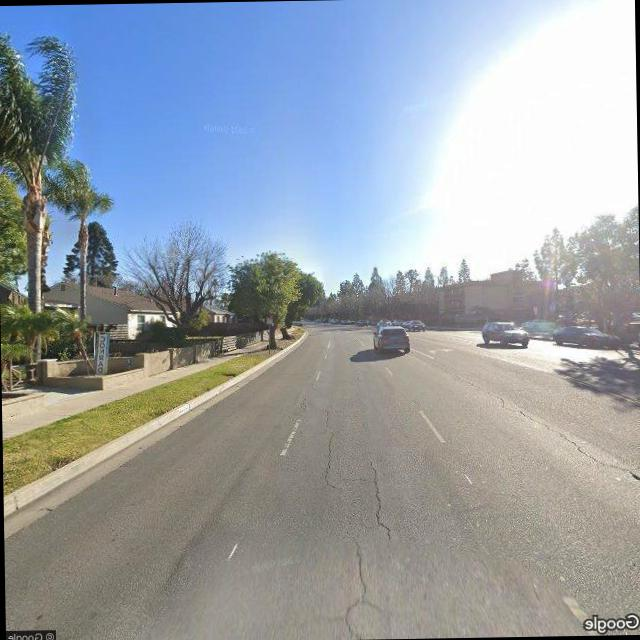pothole: (447, 361, 640, 498), (365, 452, 396, 540), (318, 403, 342, 487)
